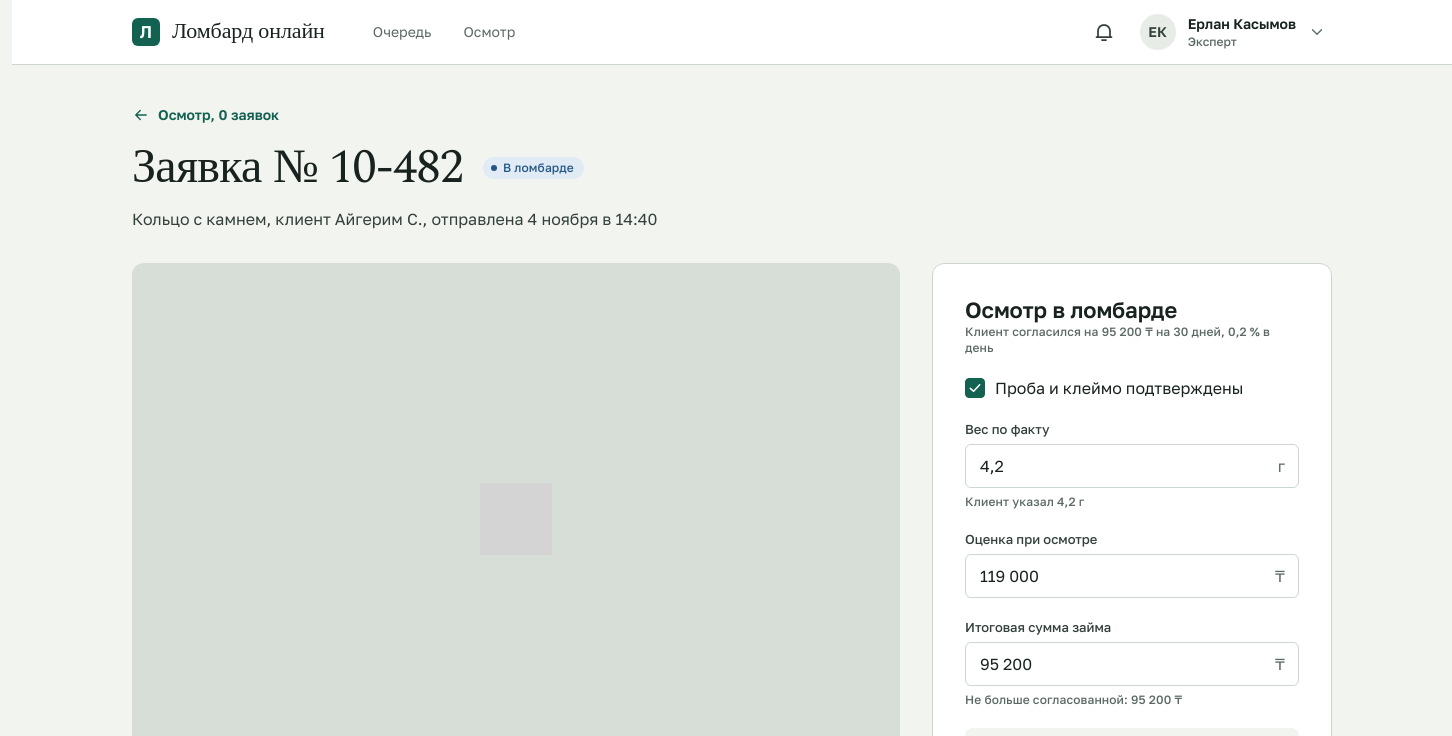
Expert review › confirms an inspection with a lower amount only with a comment
Replace the text in the field labelled "Итоговая сумма займа" with "90000" at (1132, 664), box [965, 642, 1299, 686]
(page scrolled)
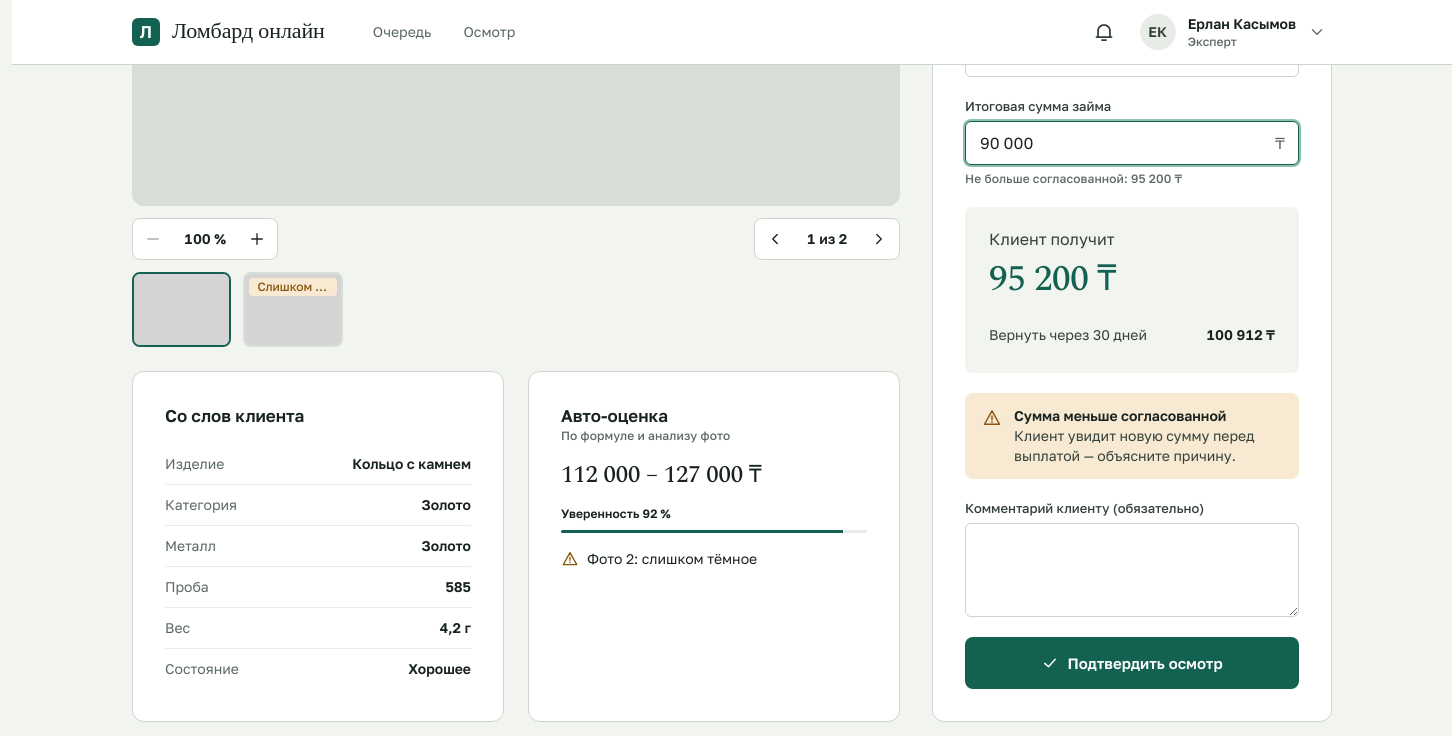
Expected: the text "Сумма меньше согласованной" is shown, [1014, 407, 1226, 424]
Click the button "Подтвердить осмотр".
click(1132, 663)  # box [965, 637, 1299, 689]
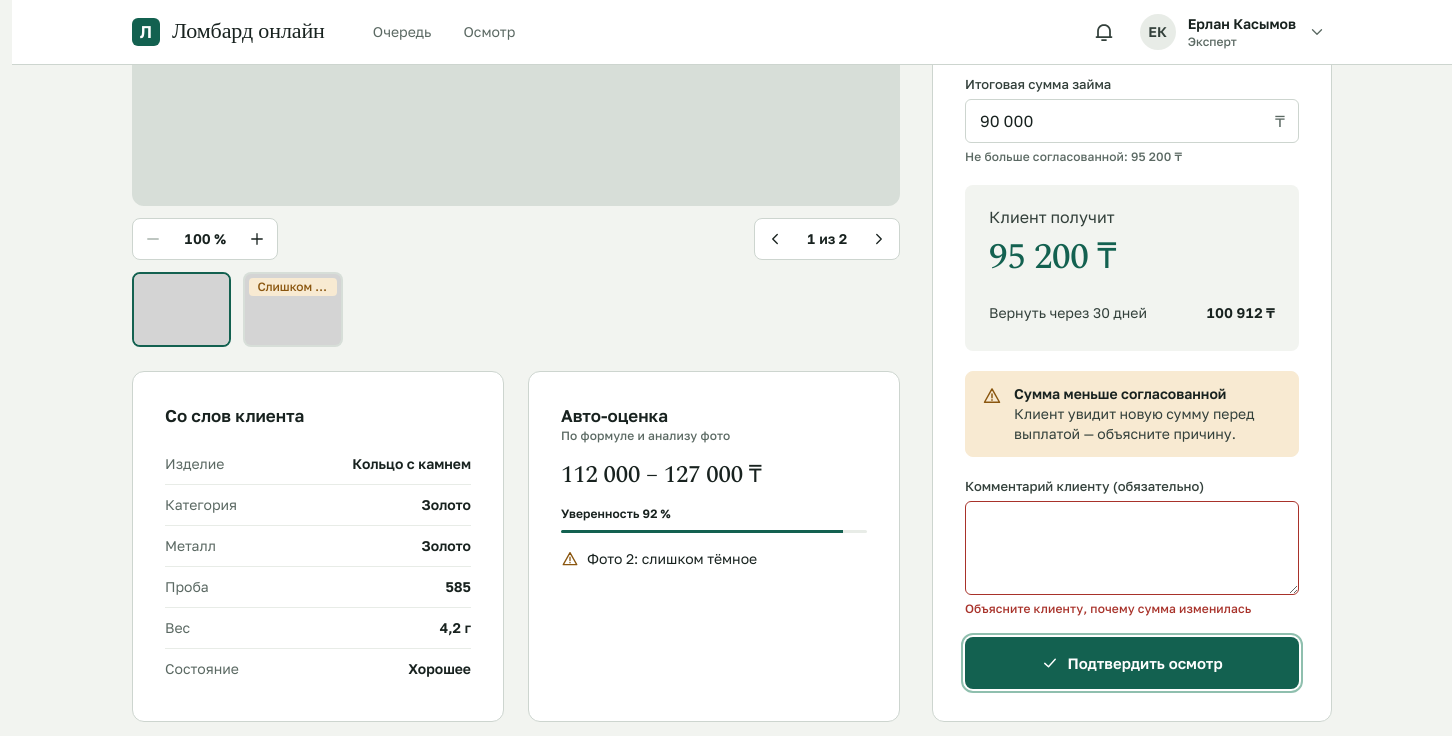
Expected: the text "Объясните клиенту, почему сумма изменилась" is shown, [965, 601, 1299, 617]
Type "Вес 4,0 г" into the text box labelled "Комментарий клиенту (обязательно)".
click(1132, 548); type("Вес 4,0 г")  # box [965, 501, 1299, 595]
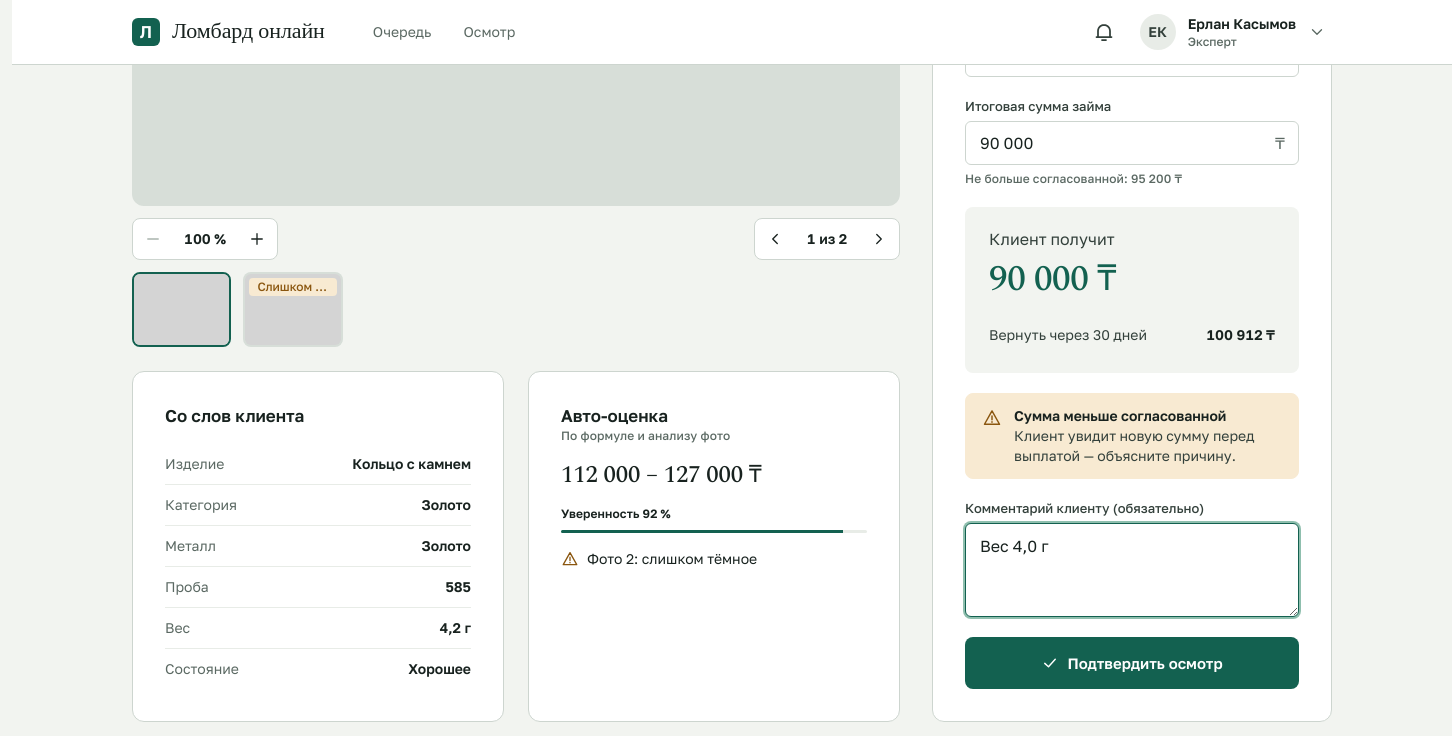
Click the button "Подтвердить осмотр".
click(1132, 663)  # box [965, 637, 1299, 689]
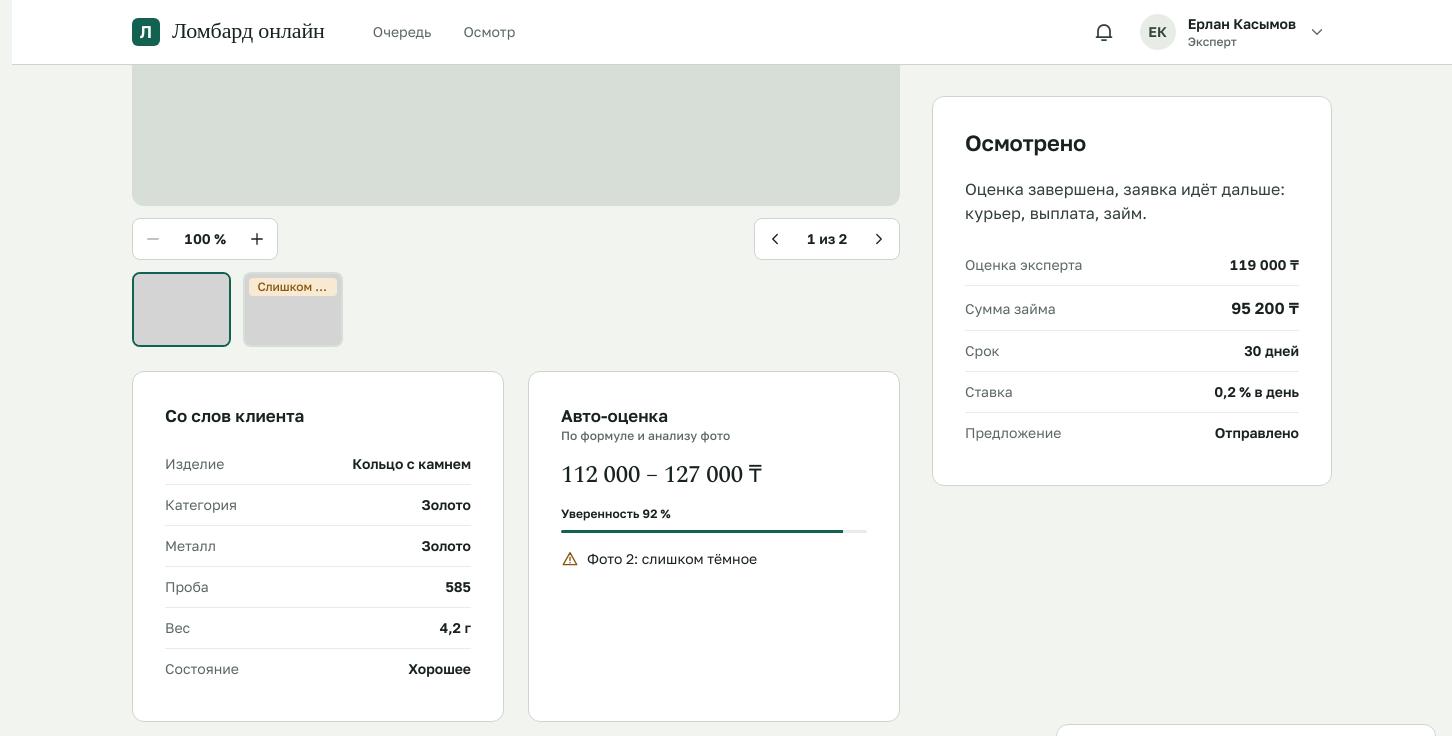
Expected: the heading "Осмотрено" is shown, [965, 129, 1086, 156]
